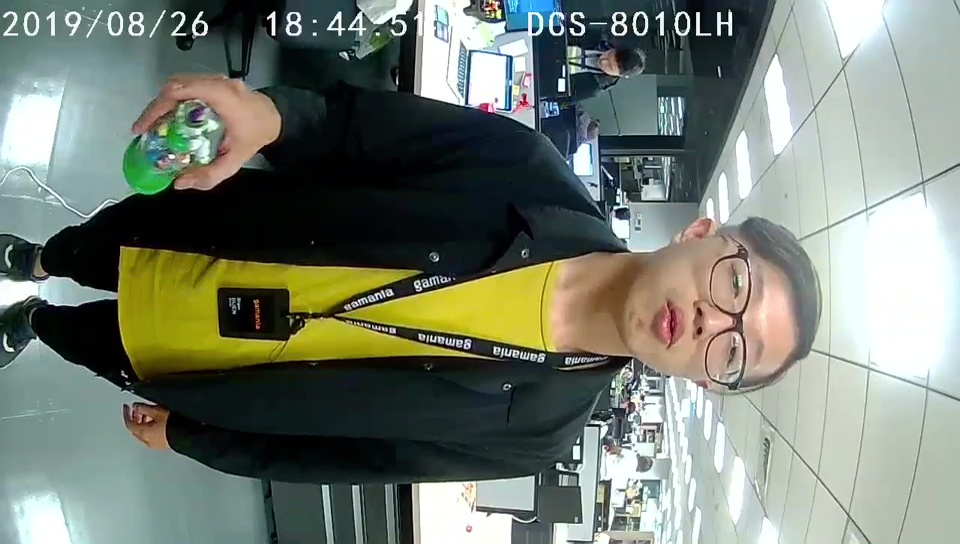buzz: (122, 94, 218, 199)
